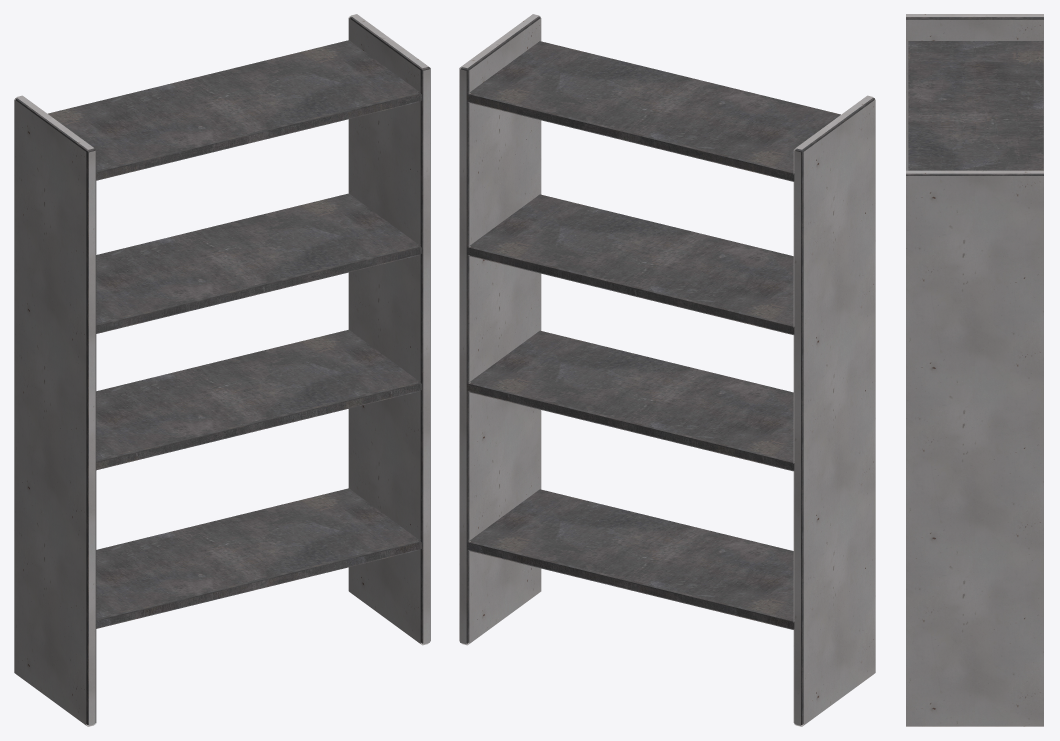
Rendered from shelf.fbx.
The picture shows the model from 3 angles, left to right: view 1: azimuth 30°, elevation 25°; view 2: azimuth 150°, elevation 25°; view 3: azimuth 270°, elevation 25°; orthographic projection. The views are drawn at different scales.
Visible parts, largest first — view 1: Shelf; view 2: Shelf; view 3: Shelf.
Part boxes in pixels (x1,y1,x2,y2): Shelf: [14, 14, 430, 726]; Shelf: [459, 14, 875, 726]; Shelf: [906, 14, 1043, 726].
Bounding box in the file's own units: 406 × 650 × 151.
Materials: 3 (3 with a texture image).
